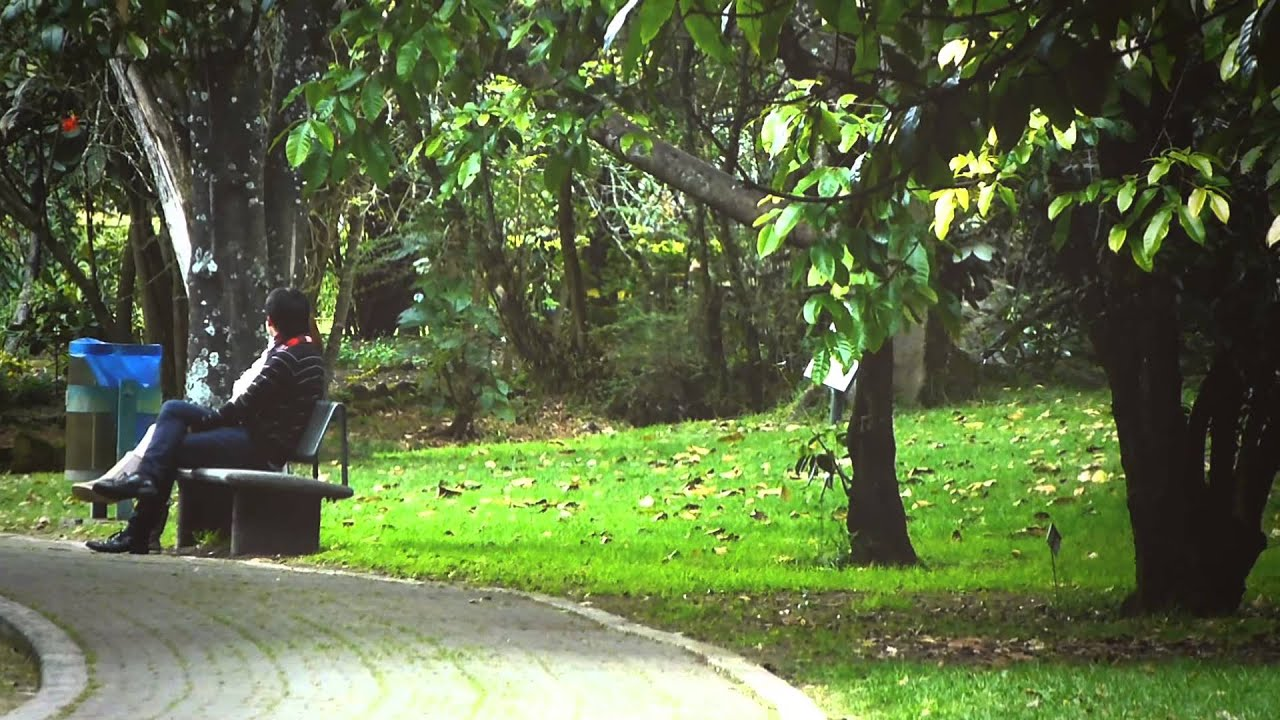person: (227, 268, 348, 464)
